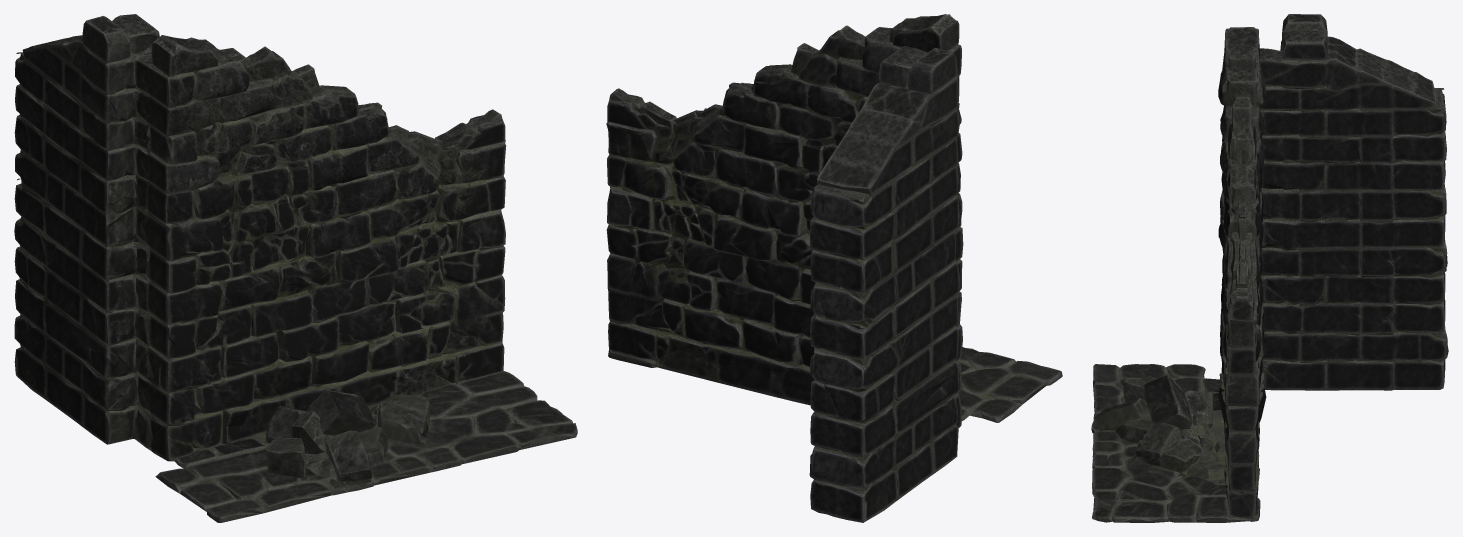
File: ruined_corner.glb
3 views of the same model, side by side, from view 1: azimuth 30°, elevation 25°; view 2: azimuth 150°, elevation 25°; view 3: azimuth 270°, elevation 25° (orthographic). The views are drawn at different scales.
Visible parts, largest first — view 1: Mesh_0; view 2: Mesh_0; view 3: Mesh_0.
Boxes of the visible parts, left/top/right/bottom form: Mesh_0: left=14, top=14, right=577, bottom=522; Mesh_0: left=606, top=14, right=1062, bottom=522; Mesh_0: left=1091, top=14, right=1448, bottom=522.
Size of the model in its own units: 1.8 by 1.9 by 1.72.
1 material, 1 textured.
